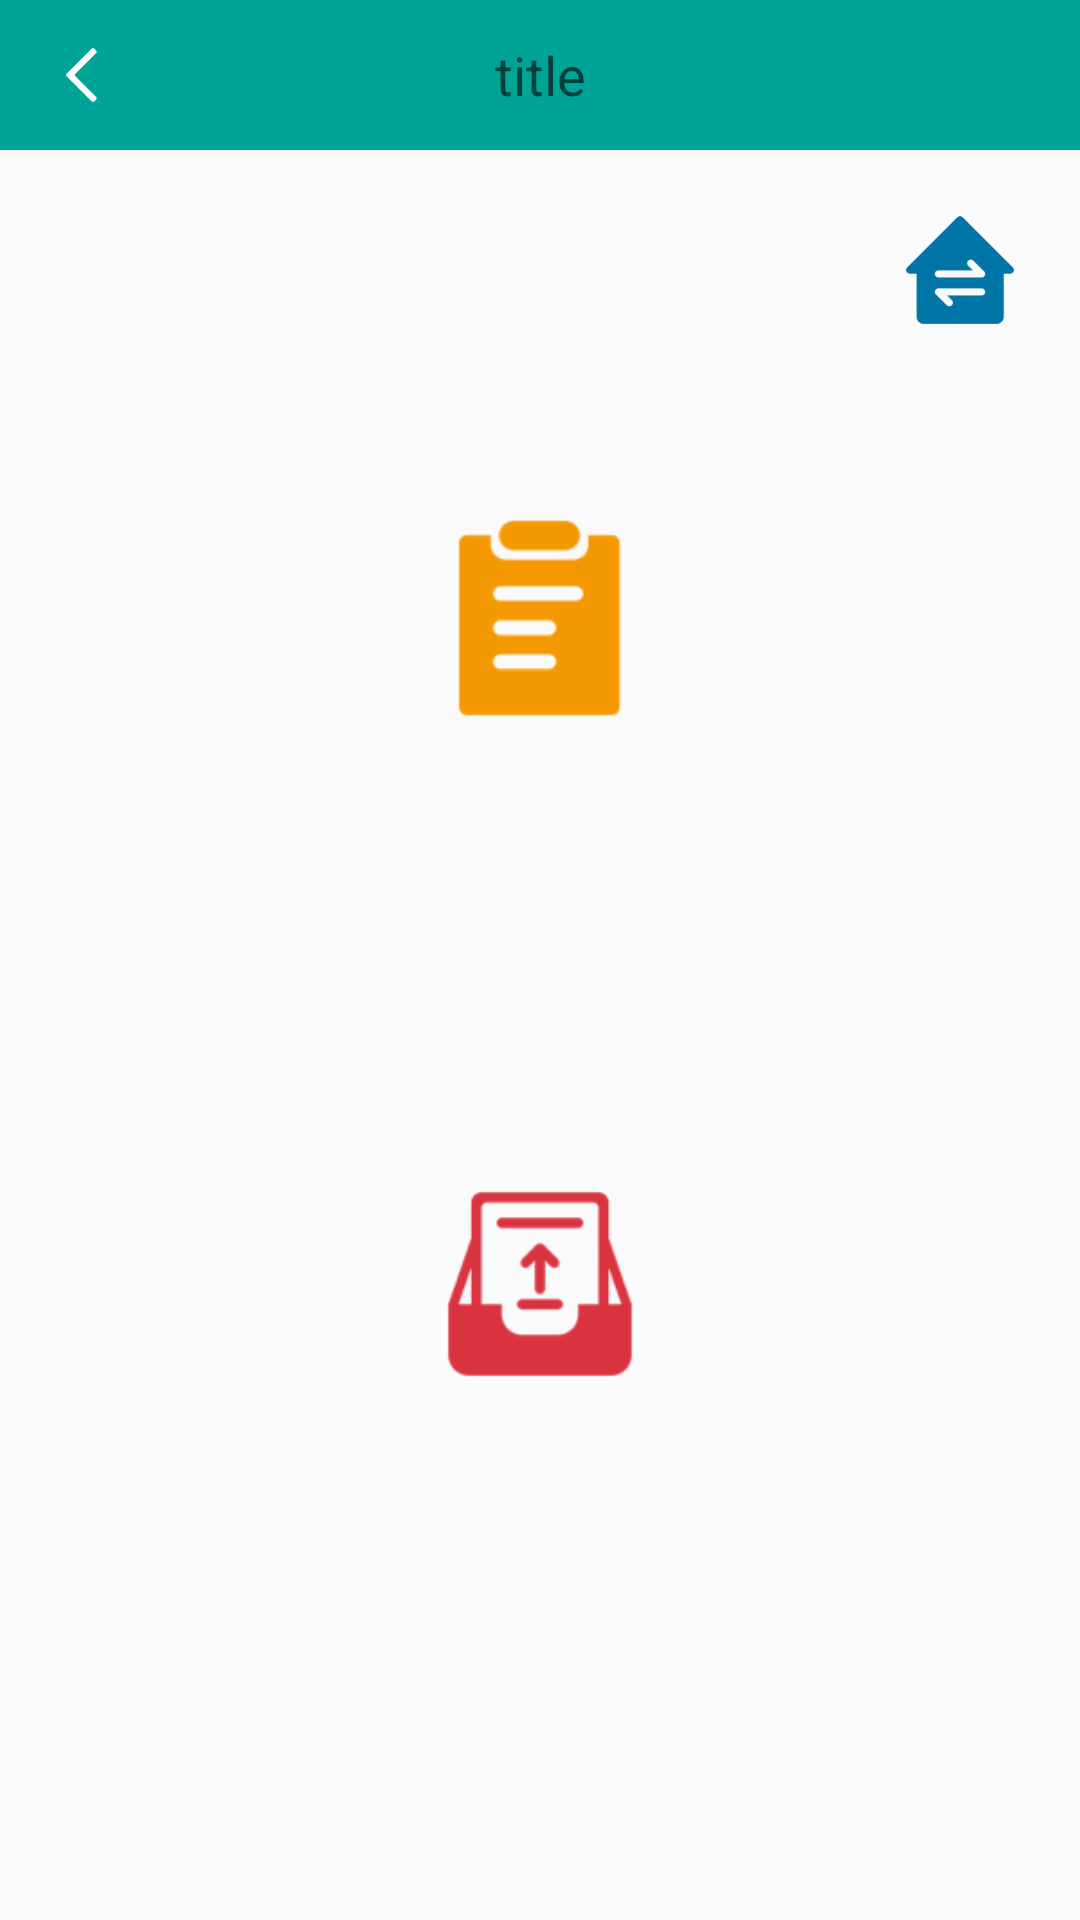

Named icons in this screenshot (1080*1920) and their bounding boxes, (x1, y1, x2, y2):
home: (906, 216, 1014, 324)
